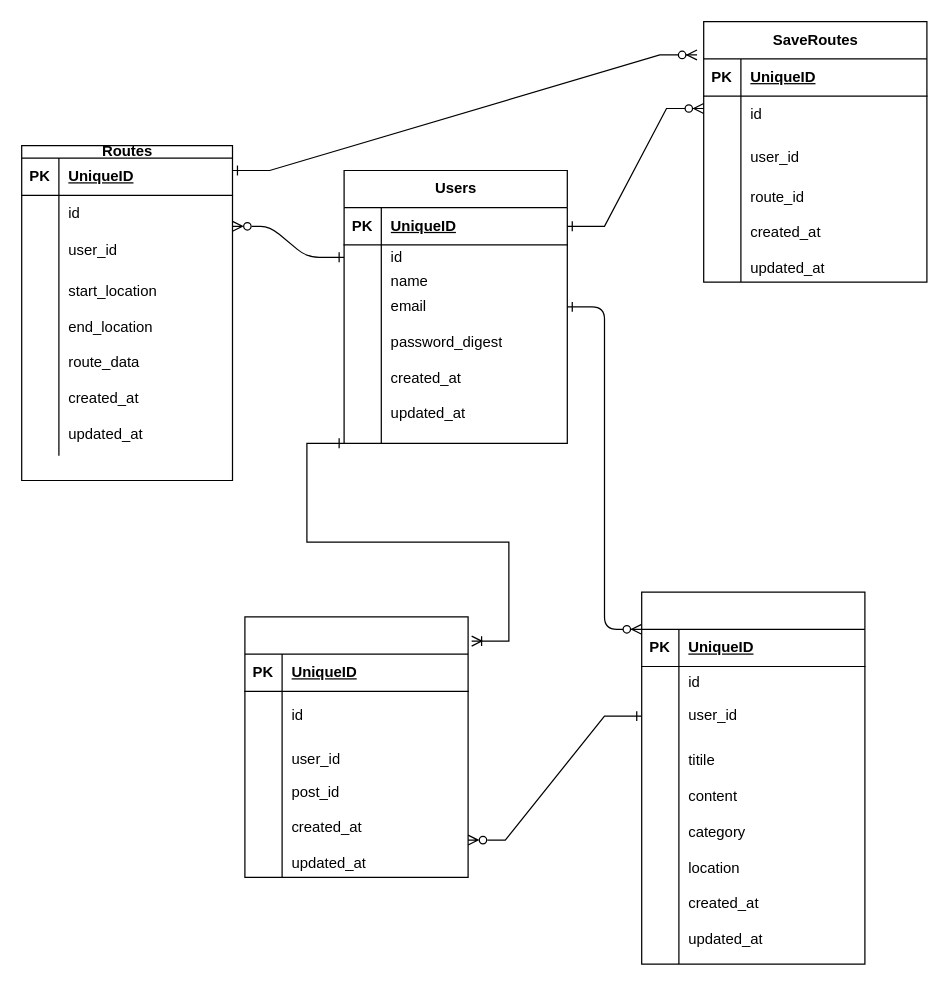
This 949x986 diagram has some shape labels left out. Each missing label, with the box of its shape:
Likes: (244, 616, 468, 877)
Posts: (640, 591, 865, 964)
